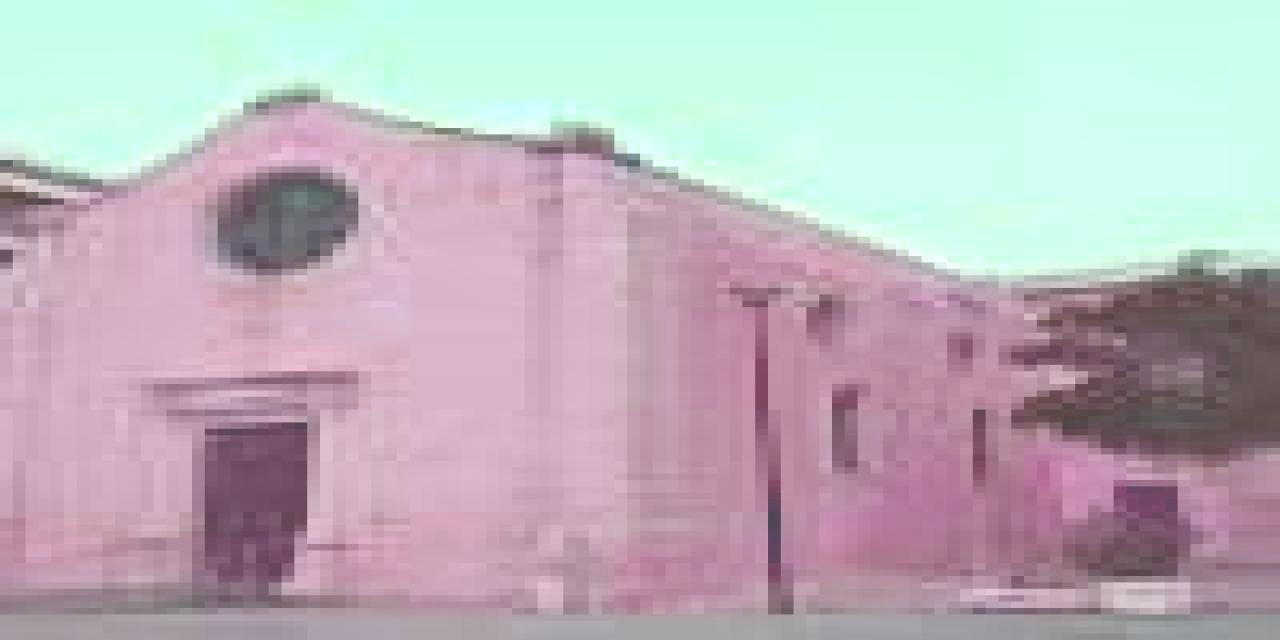Agia Aikaterini: (6, 79, 1187, 623)
